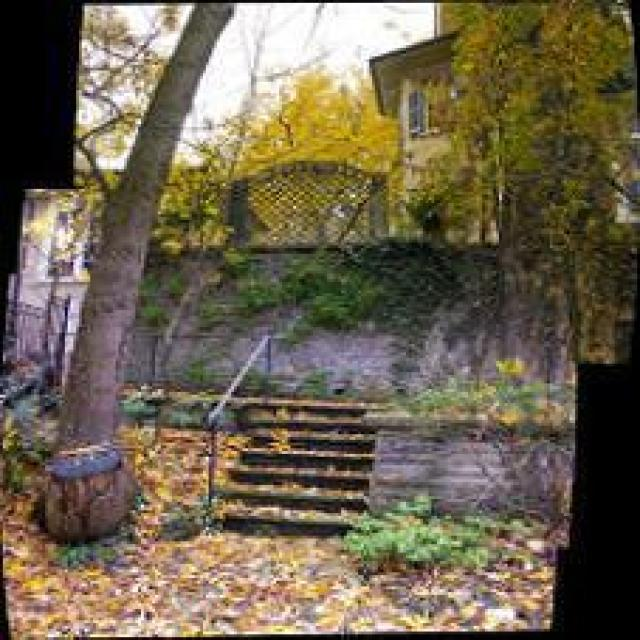upstair: (221, 342, 390, 545)
